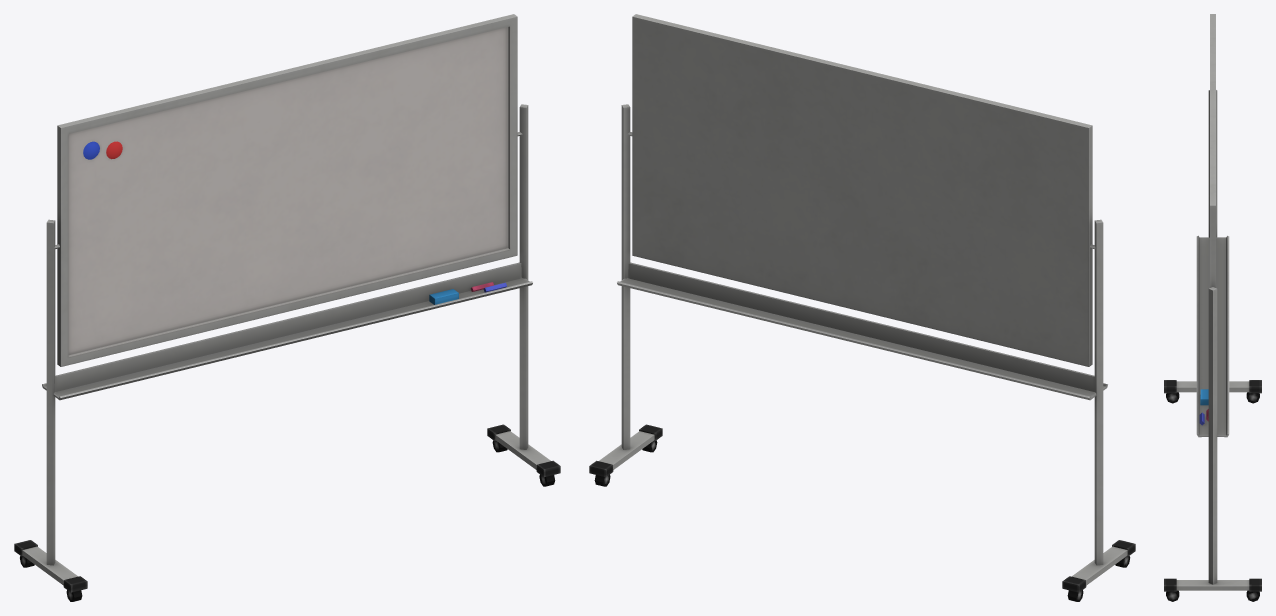
Rendered from sb_obj_ModernCity041_whiteboard.fbx.
3 views of the same model, side by side, from view 1: azimuth 30°, elevation 25°; view 2: azimuth 150°, elevation 25°; view 3: azimuth 270°, elevation 25° (orthographic). The views are drawn at different scales.
Parts seen in each view (by area): view 1: sb_obj_ModernCity041_whiteboard; view 2: sb_obj_ModernCity041_whiteboard; view 3: sb_obj_ModernCity041_whiteboard.
Part boxes in pixels (left/top/right/bottom): sb_obj_ModernCity041_whiteboard: left=14, top=14, right=560, bottom=601; sb_obj_ModernCity041_whiteboard: left=589, top=14, right=1135, bottom=601; sb_obj_ModernCity041_whiteboard: left=1164, top=14, right=1261, bottom=601.
Bounding box in the file's own units: 1.54 × 1.37 × 0.3102.
Materials: 1 (1 with a texture image).
